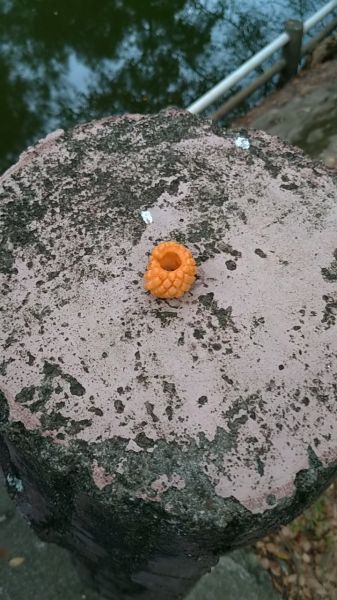eggs: (143, 236, 201, 303)
